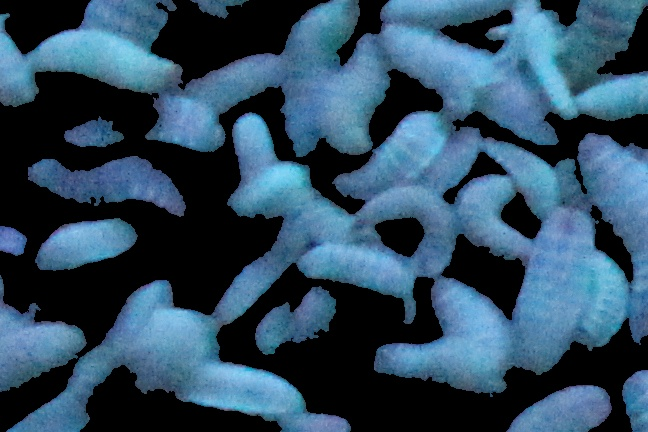larvae: (506, 211, 594, 379), (365, 22, 498, 111), (25, 149, 196, 217), (279, 9, 352, 157), (324, 111, 448, 198), (24, 27, 181, 94), (77, 277, 170, 381), (581, 132, 648, 271), (60, 99, 234, 151), (297, 240, 417, 309), (355, 186, 450, 273), (167, 360, 312, 417), (427, 275, 516, 365), (326, 32, 390, 153), (37, 211, 146, 280), (225, 158, 310, 236), (207, 236, 288, 313), (367, 337, 496, 384), (486, 142, 565, 218), (457, 176, 531, 256), (184, 46, 285, 104), (567, 1, 644, 74), (1, 316, 81, 386), (519, 27, 579, 120), (512, 378, 611, 430), (586, 244, 627, 356), (575, 72, 648, 123), (1, 1, 37, 104), (379, 1, 527, 25), (428, 127, 480, 195), (235, 115, 280, 172)
